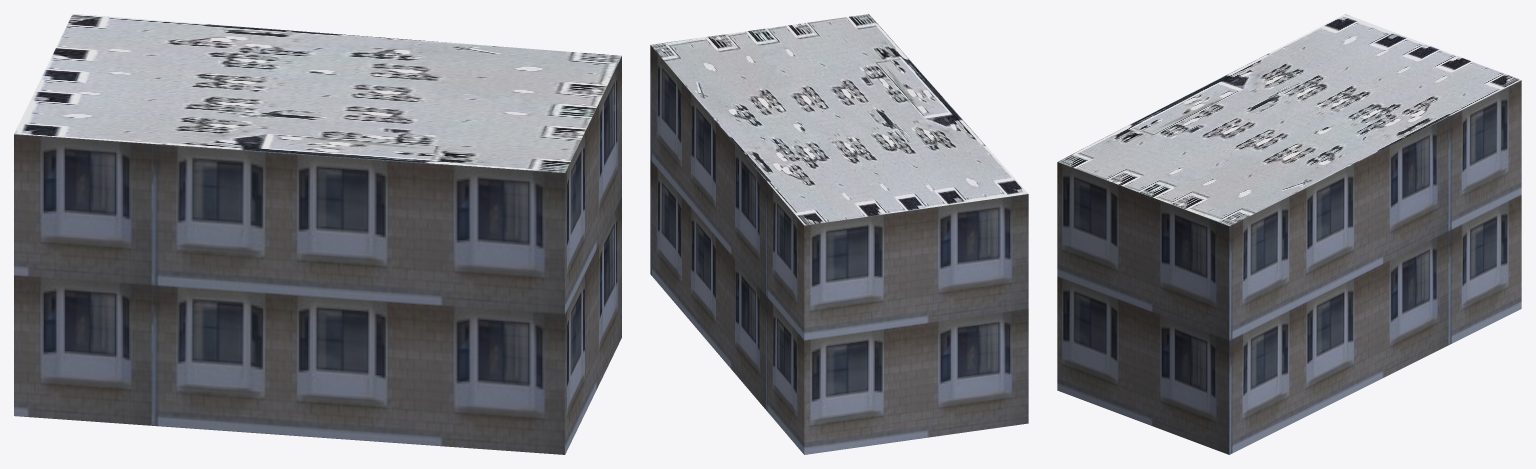
Rendered from ResTex__4891.fbx.
3 views of the same model, side by side, from view 1: azimuth 30°, elevation 25°; view 2: azimuth 150°, elevation 25°; view 3: azimuth 270°, elevation 25° (orthographic). The views are drawn at different scales.
Parts seen in each view (by area): view 1: CityEngineMaterial_3_m, CityEngineMaterial_4_m; view 2: CityEngineMaterial_3_m, CityEngineMaterial_4_m; view 3: CityEngineMaterial_3_m, CityEngineMaterial_4_m.
Part boxes in pixels (x1=…): CityEngineMaterial_3_m: x1=14, y1=56, x2=621, y2=454; CityEngineMaterial_4_m: x1=14, y1=14, x2=621, y2=172; CityEngineMaterial_3_m: x1=650, y1=45, x2=1028, y2=454; CityEngineMaterial_4_m: x1=650, y1=14, x2=1027, y2=225; CityEngineMaterial_3_m: x1=1057, y1=80, x2=1521, y2=454; CityEngineMaterial_4_m: x1=1057, y1=14, x2=1521, y2=226.
Bounding box in the file's own units: 11.94 × 6 × 11.04.
2 materials, 2 textured.
